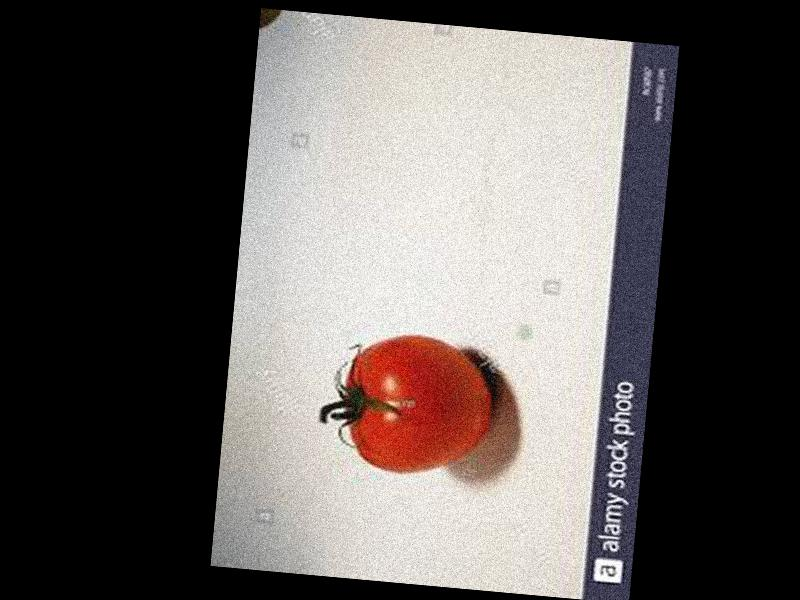Tomato: (340, 330, 498, 479)
